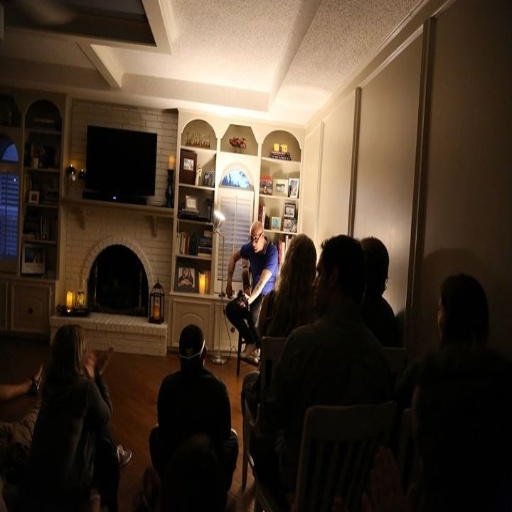hand: (84, 348, 96, 378), (241, 288, 252, 301), (226, 284, 233, 298)
